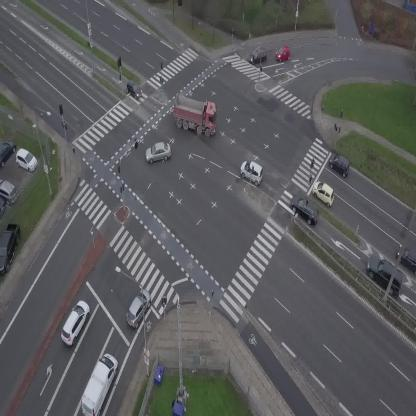car: (359, 250, 412, 299), (57, 297, 95, 347), (121, 286, 156, 330), (286, 190, 325, 229), (308, 177, 340, 208), (236, 157, 268, 186), (326, 151, 354, 178), (143, 141, 173, 163), (122, 79, 144, 101), (247, 48, 269, 65), (273, 46, 292, 62)
lorry: (76, 350, 122, 416), (169, 95, 221, 138)
